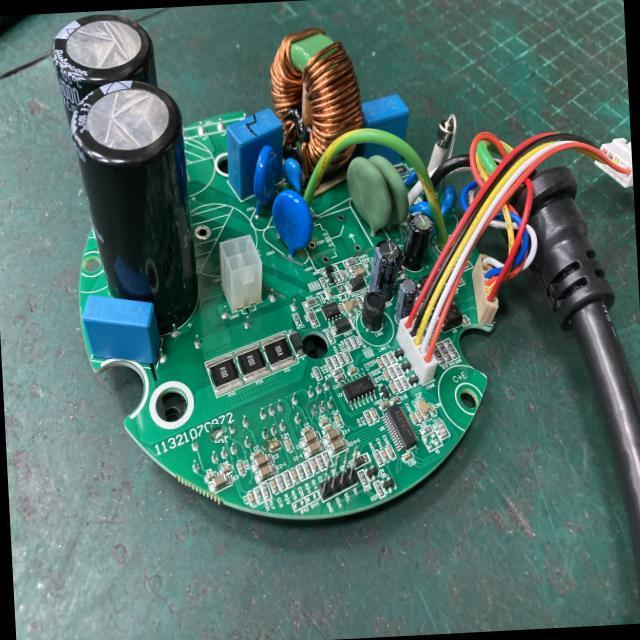damged: (208, 424, 228, 444)
